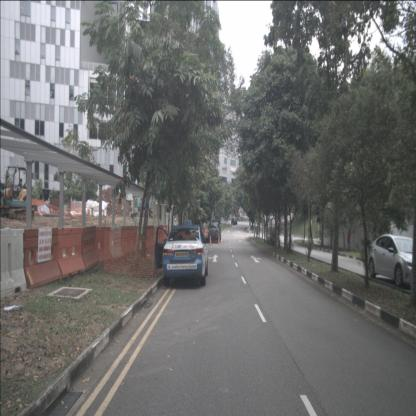human-pedestrian-adult: (346, 228, 352, 251)
movable_object-barrier: (20, 227, 59, 289), (0, 227, 27, 300), (52, 228, 86, 278), (78, 226, 99, 271), (92, 225, 112, 264), (106, 226, 124, 260), (118, 226, 132, 257), (127, 225, 140, 254), (142, 225, 156, 251), (159, 224, 168, 245), (152, 225, 160, 246)
movable_object-trafficcone: (217, 234, 221, 245), (209, 234, 212, 246), (87, 207, 91, 216), (205, 232, 208, 239), (205, 227, 208, 234)
vehicle-car: (154, 224, 208, 286), (367, 234, 416, 288), (208, 221, 222, 243), (231, 216, 237, 226)
